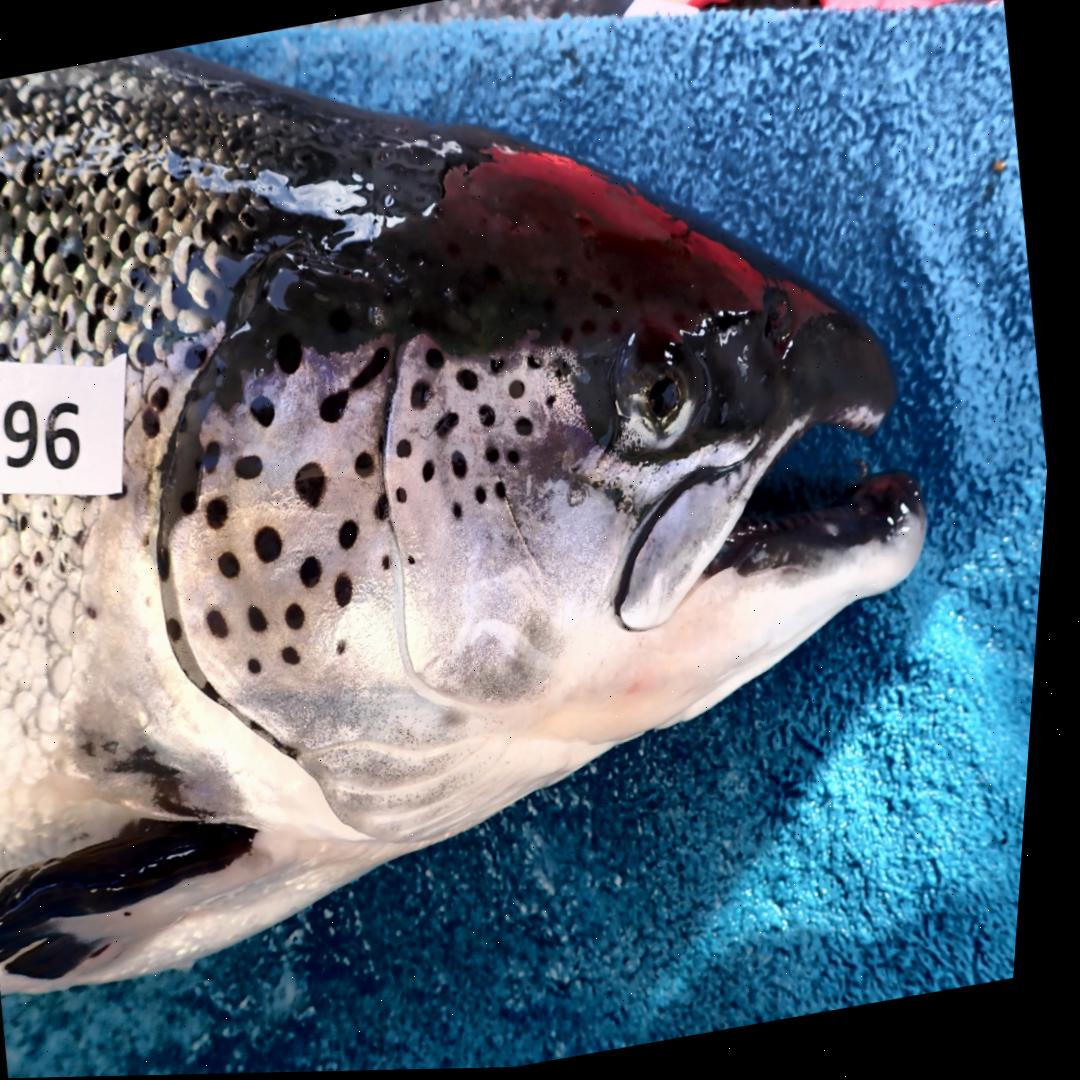spot: (354, 347, 393, 390), (300, 463, 332, 510), (280, 334, 307, 375), (260, 526, 288, 564), (324, 391, 354, 423), (255, 396, 280, 428), (211, 497, 234, 530), (306, 556, 328, 589), (239, 456, 268, 480), (341, 574, 361, 608), (415, 381, 437, 411), (344, 520, 365, 551), (213, 611, 235, 639), (440, 413, 464, 438), (225, 551, 246, 579), (360, 451, 381, 478), (207, 442, 225, 473), (255, 604, 274, 633), (292, 603, 313, 629), (459, 370, 482, 393), (552, 357, 575, 380), (380, 495, 397, 523), (457, 452, 474, 479), (164, 548, 177, 581), (429, 349, 449, 370), (483, 404, 500, 427), (187, 491, 203, 515), (290, 647, 309, 667), (520, 418, 538, 438), (427, 459, 441, 483), (174, 619, 189, 641), (401, 439, 417, 459), (513, 381, 529, 399), (493, 358, 509, 376), (490, 449, 505, 465), (512, 449, 526, 466), (256, 659, 270, 674), (500, 483, 512, 500), (402, 488, 413, 504), (481, 488, 492, 504), (458, 505, 469, 520), (344, 640, 354, 656), (531, 358, 544, 370), (550, 396, 560, 410), (388, 557, 395, 570), (415, 556, 422, 565)
